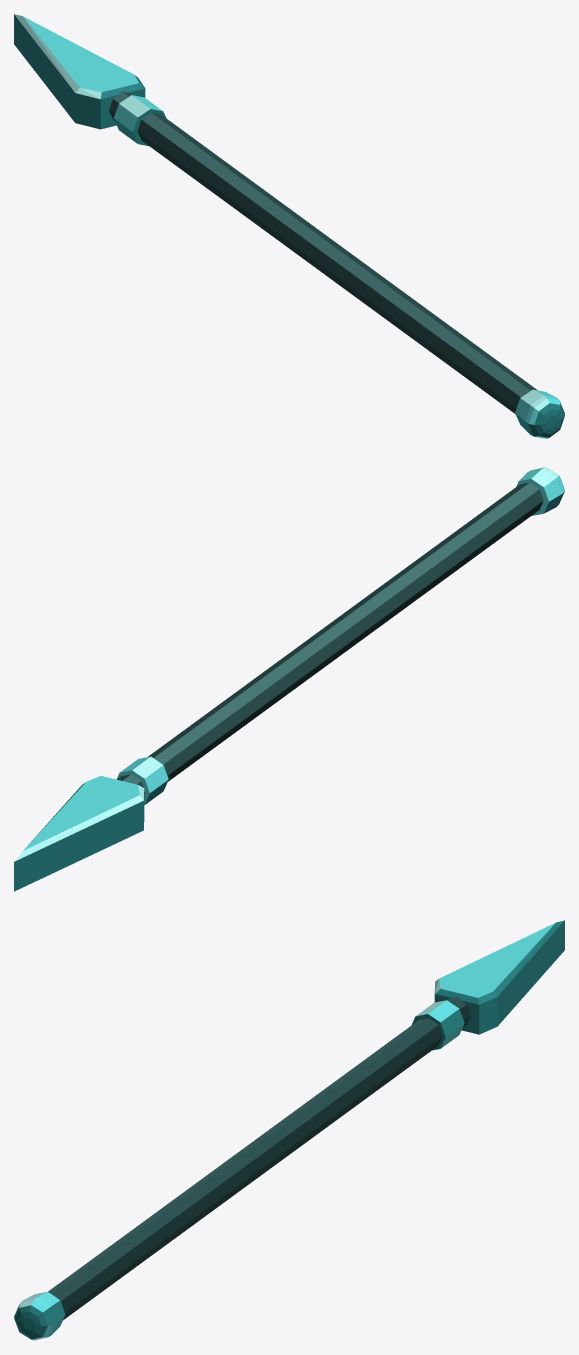
The model's file is diamond_spear.fbx.
3 renders of one model, top to bottom at view 1: azimuth 30°, elevation 25°; view 2: azimuth 150°, elevation 25°; view 3: azimuth 330°, elevation 25°, orthographic.
Parts seen in each view (by area): view 1: diamond_spear; view 2: diamond_spear; view 3: diamond_spear.
Boxes of the visible parts, bbox=[...] form: diamond_spear: bbox=[14, 14, 564, 438]; diamond_spear: bbox=[14, 467, 564, 891]; diamond_spear: bbox=[14, 920, 564, 1340].
Size of the model in its own units: 0.21 by 0.1333 by 3.12.
Materials: 1 (1 with a texture image).
